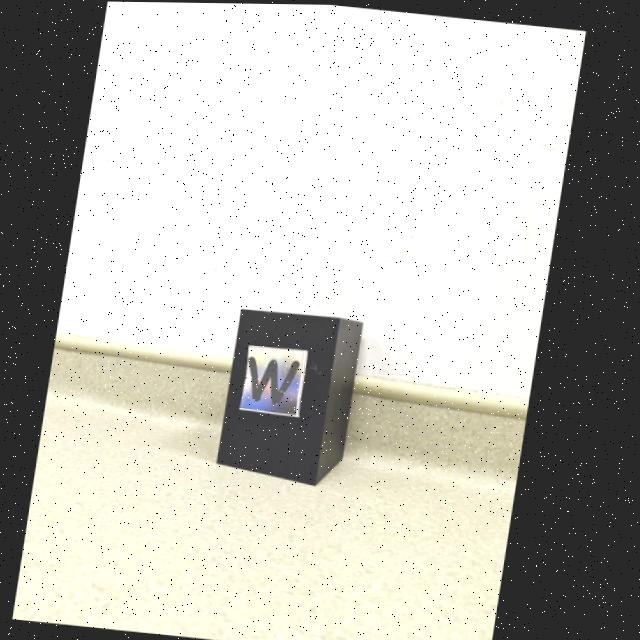W: (252, 355, 305, 404)
